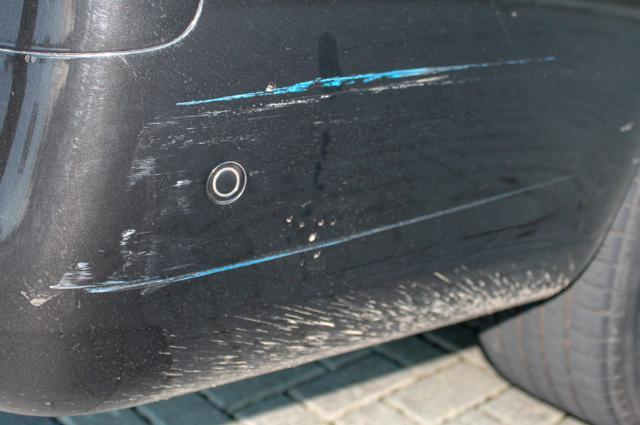Bumper: (41, 42, 576, 304)
